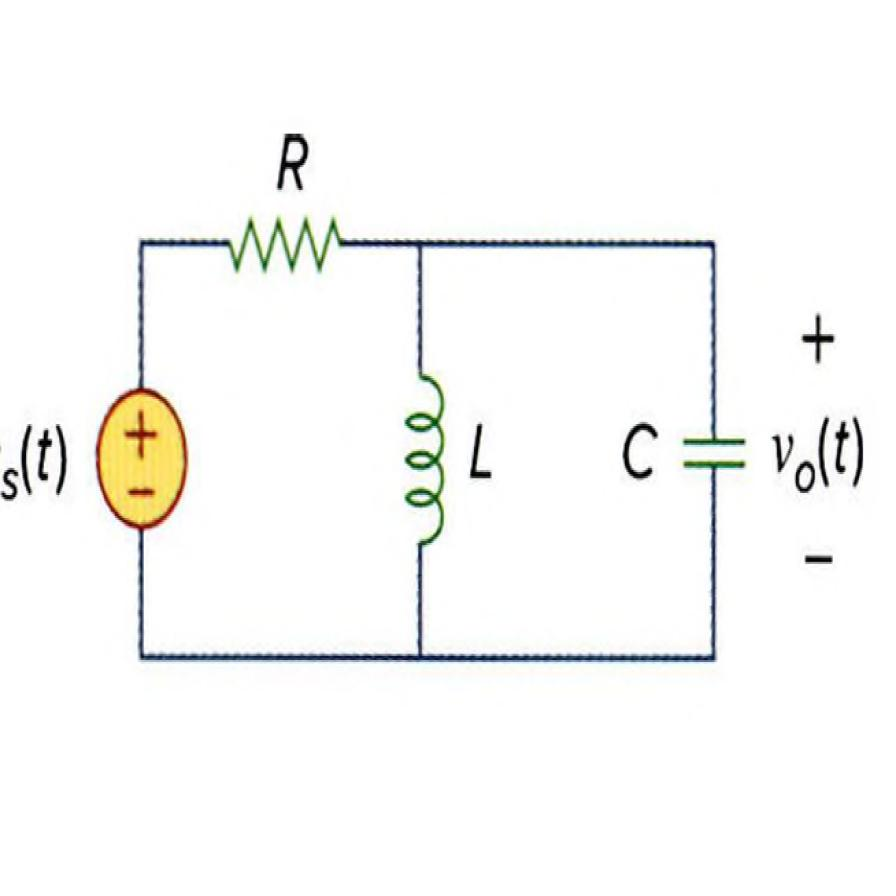C2: (678, 400, 756, 512)
L2: (389, 361, 459, 564)
R1: (205, 196, 356, 290)
V1: (82, 377, 199, 537)
